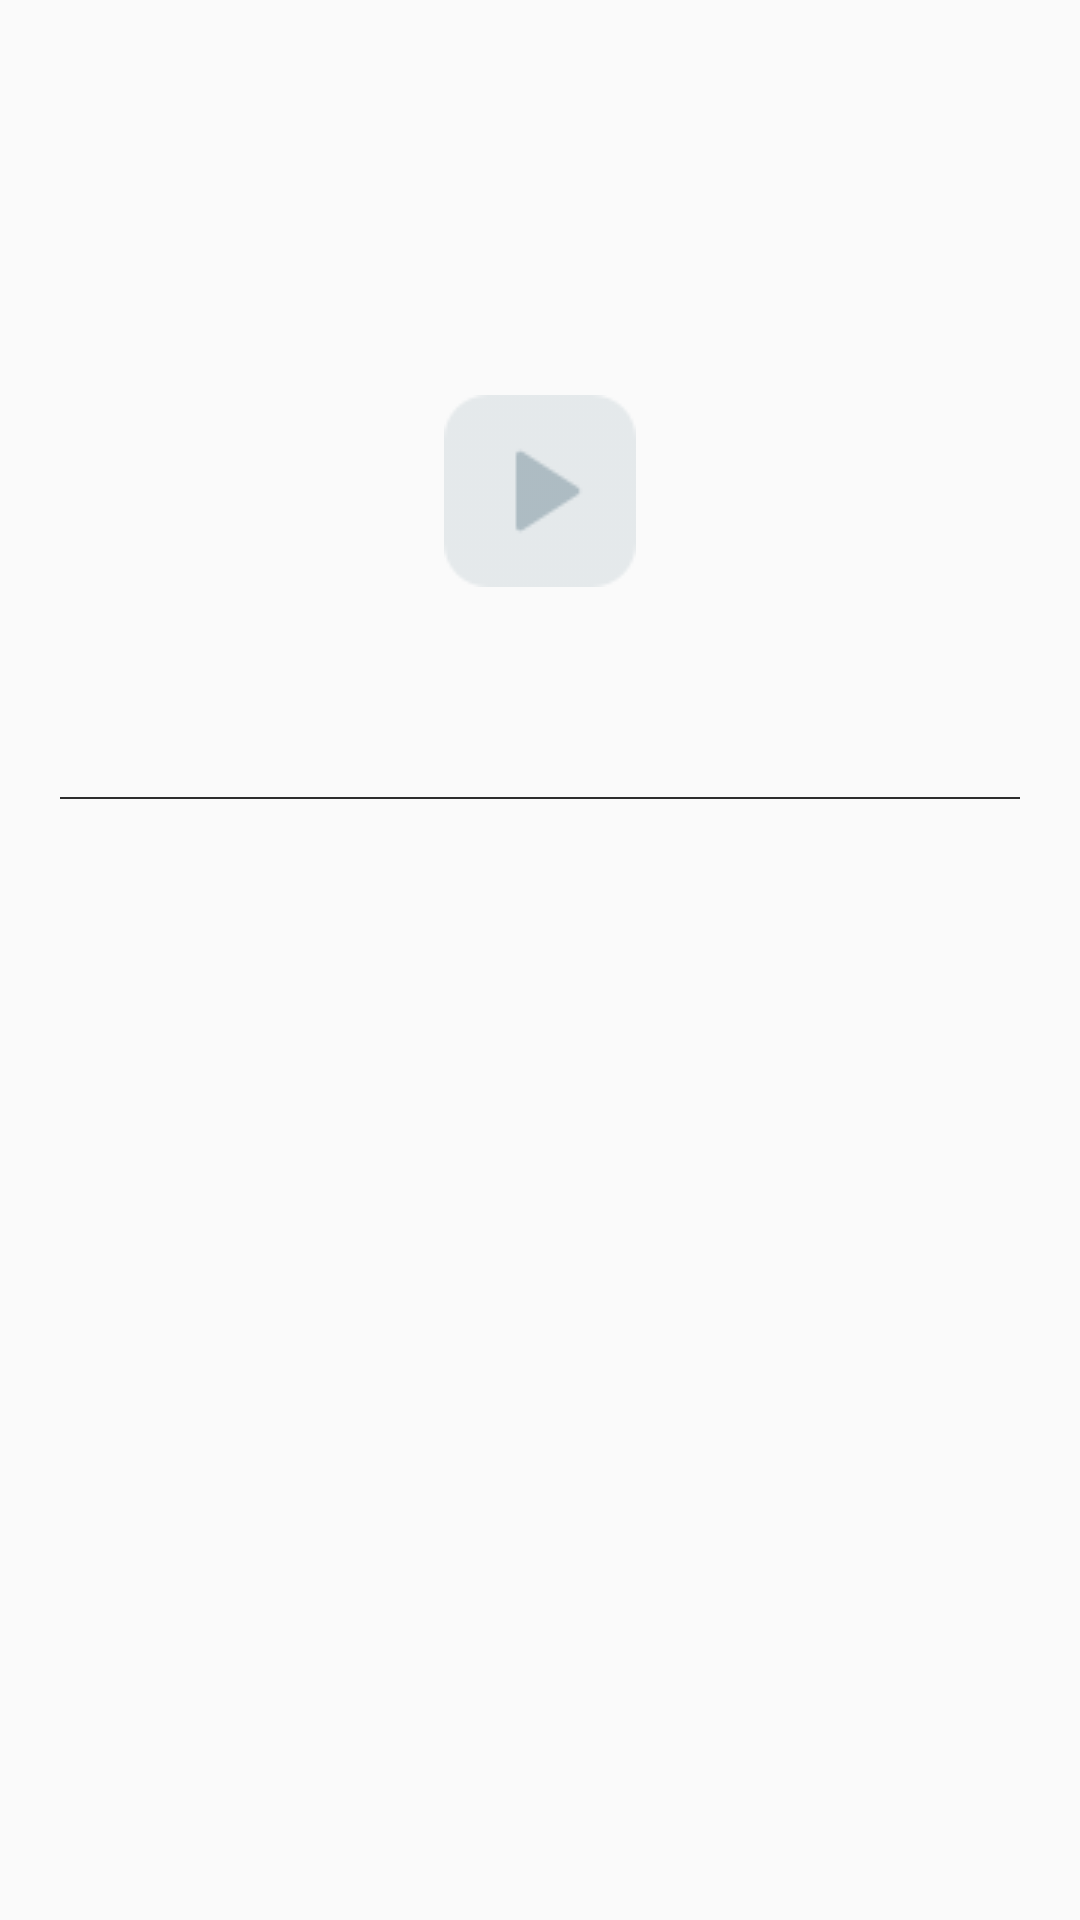

Icons on this 1080 x 1920 Android screen, each with the point to tap as point (x, y):
play: point (549, 491)
